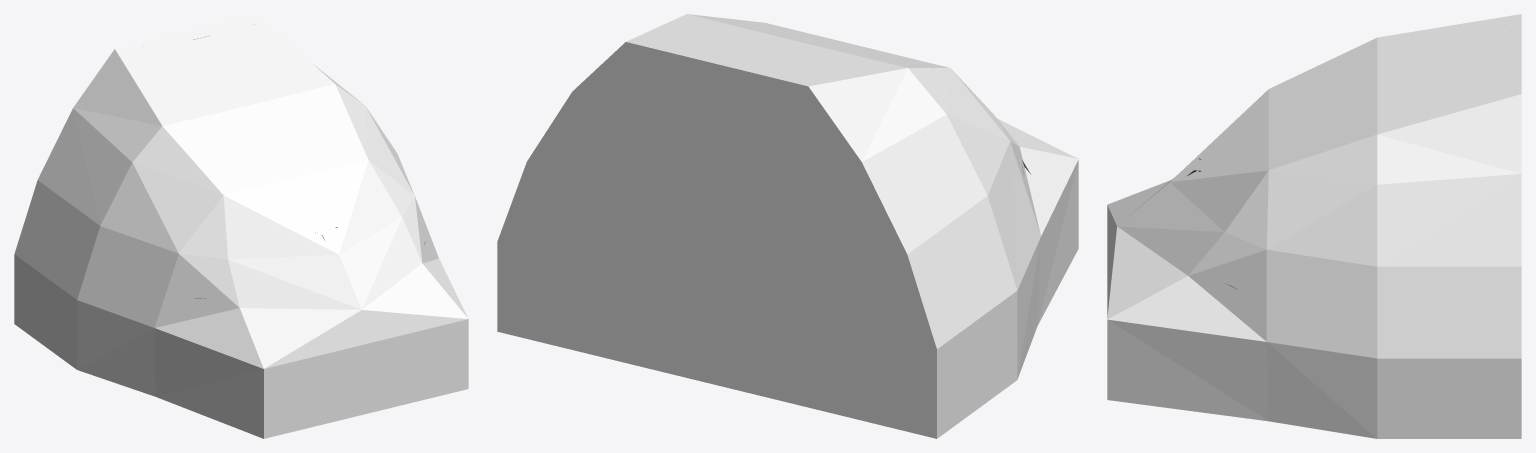
The model's file is A320_NEO_INTERIOR_LOD03.gltf.
3 renders of one model, left to right at view 1: azimuth 30°, elevation 25°; view 2: azimuth 150°, elevation 25°; view 3: azimuth 270°, elevation 25°, orthographic. The views are drawn at different scales.
Parts seen in each view (by area): view 1: Occluder; view 2: Occluder; view 3: Occluder.
Part boxes in pixels (x1,y1,x2,y2): Occluder: (14, 14, 468, 438); Occluder: (497, 14, 1078, 438); Occluder: (1107, 14, 1521, 438).
Size of what is drawn, in the model's own units: 3.24 by 2.27 by 2.95.
